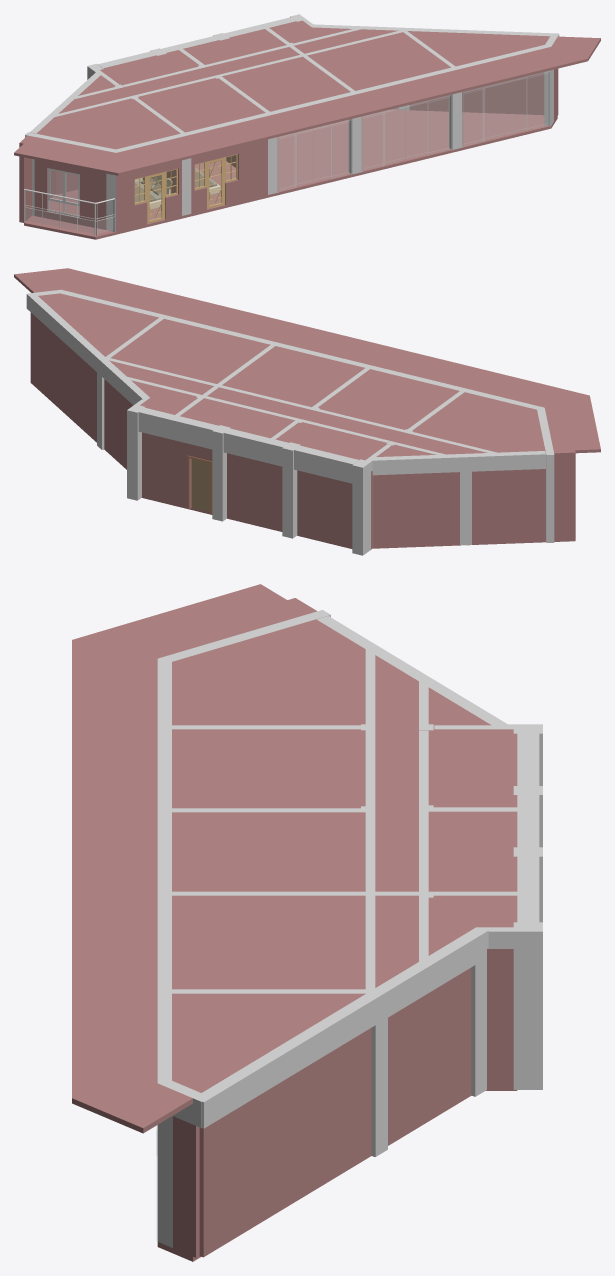
3 views of the same model, one above another, from view 1: azimuth 30°, elevation 25°; view 2: azimuth 150°, elevation 25°; view 3: azimuth 270°, elevation 25° (orthographic). The views are drawn at different scales.
Visible parts, largest first — view 1: product-430300c9-f647-4451-a409-d77cb6cd190f-body, product-4ca2939c-3e7c-44bf-b027-667177bcc9da-body, product-430300c9-f647-4451-a409-d77cb6cca6e4-body, product-430300c9-f647-4451-a409-d77cb6cca960-body, product-430300c9-f647-4451-a409-d77cb6cca680-body, product-430300c9-f647-4451-a409-d77cb6cc0835-body, product-430300c9-f647-4451-a409-d77cb6cc3875-body, product-430300c9-f647-4451-a409-d77cb6cb227d-body, product-430300c9-f647-4451-a409-d77cb6cb64d2-body, product-430300c9-f647-4451-a409-d77cb6ce9094-body, product-430300c9-f647-4451-a409-d77cb6cca654-body, product-430300c9-f647-4451-a409-d77cb6cca600-body (+19 smaller); view 2: product-430300c9-f647-4451-a409-d77cb6cd190f-body, product-430300c9-f647-4451-a409-d77cb6cb2a2c-body, product-430300c9-f647-4451-a409-d77cb6cc3529-body, product-430300c9-f647-4451-a409-d77cb6cc0835-body, product-430300c9-f647-4451-a409-d77cb6cc3e7f-body, product-430300c9-f647-4451-a409-d77cb6cc3fa6-body, product-430300c9-f647-4451-a409-d77cb6cb24d8-body, product-430300c9-f647-4451-a409-d77cb6cd47d4-body, product-430300c9-f647-4451-a409-d77cb6cb45a9-body, product-430300c9-f647-4451-a409-d77cb6cb036d-body, product-430300c9-f647-4451-a409-d77cb6cc3c38-body, product-430300c9-f647-4451-a409-d77cb6cb5c4f-body (+17 smaller); view 3: product-430300c9-f647-4451-a409-d77cb6cd190f-body, product-430300c9-f647-4451-a409-d77cb6cc0835-body, product-430300c9-f647-4451-a409-d77cb6cc3c38-body, product-430300c9-f647-4451-a409-d77cb6cb5fb8-body, product-430300c9-f647-4451-a409-d77cb6cb039c-body, product-430300c9-f647-4451-a409-d77cb6cc3ec6-body, product-430300c9-f647-4451-a409-d77cb6cb2efa-body, product-430300c9-f647-4451-a409-d77cb6cb5f72-body, product-430300c9-f647-4451-a409-d77cb6cb680c-body, product-430300c9-f647-4451-a409-d77cb6cb6652-body, product-430300c9-f647-4451-a409-d77cb6cb63c5-body, product-430300c9-f647-4451-a409-d77cb6cbe5a7-body (+15 smaller).
Part boxes in pixels (x1,y1,x2,y2): product-430300c9-f647-4451-a409-d77cb6cd190f-body: [14, 20, 600, 175]; product-4ca2939c-3e7c-44bf-b027-667177bcc9da-body: [24, 109, 557, 239]; product-430300c9-f647-4451-a409-d77cb6cca6e4-body: [361, 94, 452, 171]; product-430300c9-f647-4451-a409-d77cb6cca960-body: [462, 70, 551, 147]; product-430300c9-f647-4451-a409-d77cb6cca680-body: [277, 119, 352, 192]; product-430300c9-f647-4451-a409-d77cb6cc0835-body: [409, 72, 544, 115]; product-430300c9-f647-4451-a409-d77cb6cc3875-body: [191, 139, 267, 213]; product-430300c9-f647-4451-a409-d77cb6cb227d-body: [34, 159, 106, 229]; product-430300c9-f647-4451-a409-d77cb6cb64d2-body: [116, 160, 181, 231]; product-430300c9-f647-4451-a409-d77cb6ce9094-body: [24, 189, 115, 236]; product-430300c9-f647-4451-a409-d77cb6cca654-body: [194, 154, 237, 208]; product-430300c9-f647-4451-a409-d77cb6cca600-body: [134, 168, 177, 223]; product-430300c9-f647-4451-a409-d77cb6cd190f-body: [14, 268, 600, 460]; product-430300c9-f647-4451-a409-d77cb6cb2a2c-body: [373, 472, 459, 547]; product-430300c9-f647-4451-a409-d77cb6cc3529-body: [472, 469, 545, 544]; product-430300c9-f647-4451-a409-d77cb6cc0835-body: [30, 312, 96, 442]; product-430300c9-f647-4451-a409-d77cb6cc3e7f-body: [227, 453, 282, 531]; product-430300c9-f647-4451-a409-d77cb6cc3fa6-body: [297, 470, 352, 548]; product-430300c9-f647-4451-a409-d77cb6cb24d8-body: [142, 432, 212, 508]; product-430300c9-f647-4451-a409-d77cb6cd47d4-body: [553, 450, 575, 541]; product-430300c9-f647-4451-a409-d77cb6cb45a9-body: [138, 407, 218, 449]; product-430300c9-f647-4451-a409-d77cb6cb036d-body: [352, 459, 370, 555]; product-430300c9-f647-4451-a409-d77cb6cc3c38-body: [104, 379, 133, 469]; product-430300c9-f647-4451-a409-d77cb6cb5c4f-body: [368, 454, 459, 475]; product-430300c9-f647-4451-a409-d77cb6cd190f-body: [72, 584, 517, 1133]; product-430300c9-f647-4451-a409-d77cb6cc0835-body: [199, 1028, 371, 1257]; product-430300c9-f647-4451-a409-d77cb6cc3c38-body: [388, 968, 471, 1145]; product-430300c9-f647-4451-a409-d77cb6cb5fb8-body: [202, 995, 375, 1128]; product-430300c9-f647-4451-a409-d77cb6cb039c-body: [513, 922, 542, 1089]; product-430300c9-f647-4451-a409-d77cb6cc3ec6-body: [487, 948, 513, 1089]; product-430300c9-f647-4451-a409-d77cb6cb2efa-body: [173, 1116, 199, 1257]; product-430300c9-f647-4451-a409-d77cb6cb5f72-body: [376, 927, 493, 1017]; product-430300c9-f647-4451-a409-d77cb6cb680c-body: [364, 988, 387, 1156]; product-430300c9-f647-4451-a409-d77cb6cb6652-body: [464, 927, 487, 1096]; product-430300c9-f647-4451-a409-d77cb6cb63c5-body: [157, 1079, 182, 1247]; product-430300c9-f647-4451-a409-d77cb6cbe5a7-body: [365, 812, 375, 989].
Size of the model in its own units: 26.53 by 3.72 by 9.7.
